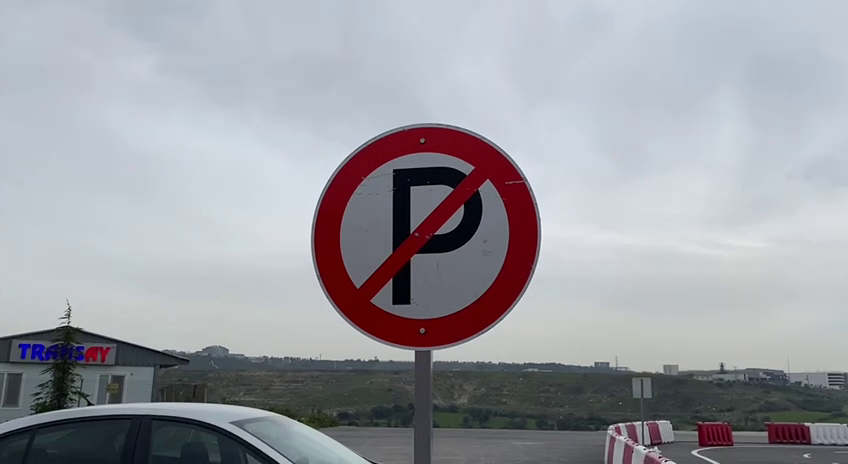noparking: (298, 105, 563, 363)
